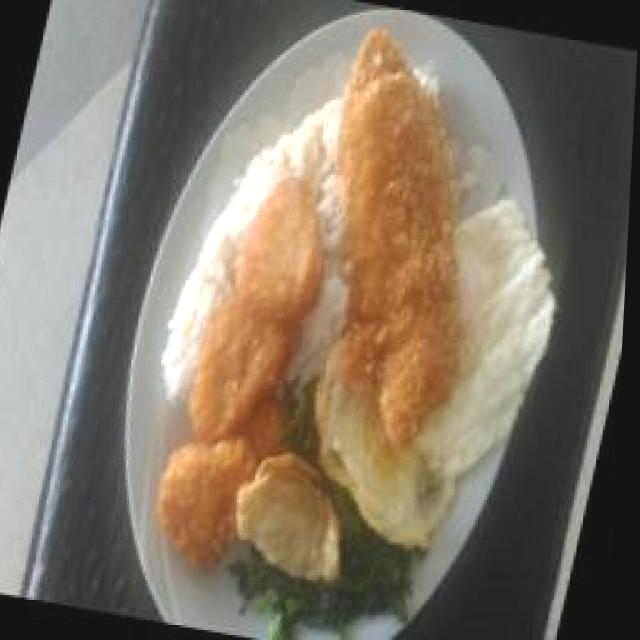fried_chicken: (277, 33, 532, 453)
fried_dumplings: (226, 442, 370, 590)
fried_eggs: (306, 178, 581, 551)
rice: (237, 100, 351, 203), (334, 528, 426, 638)
triangle_hash_brown: (152, 167, 341, 575)
